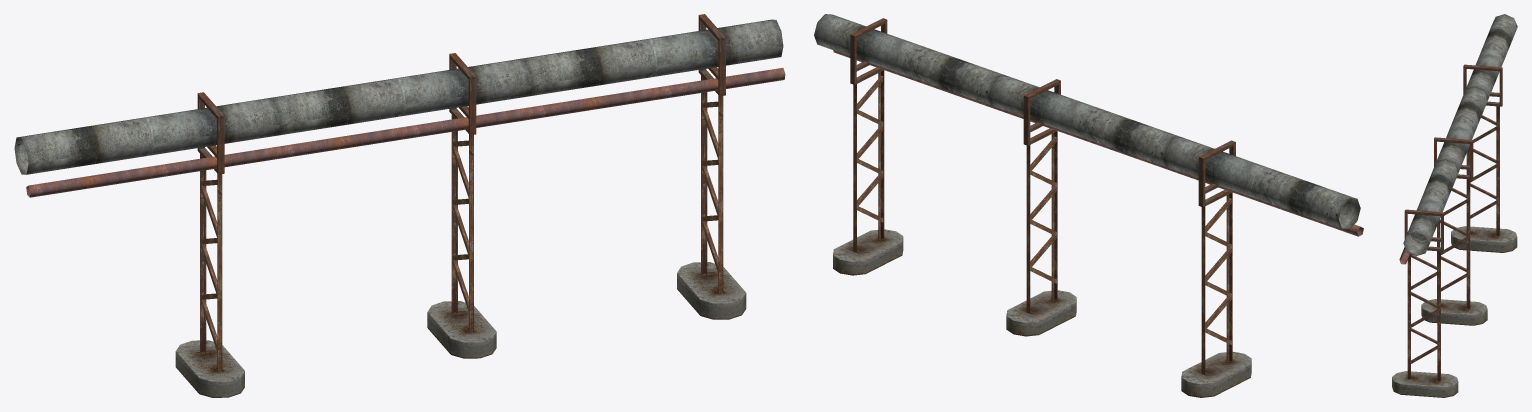
File: Pipes_set_v1_H_set_v1.glb
3 renders of one model, left to right at view 1: azimuth 30°, elevation 25°; view 2: azimuth 150°, elevation 25°; view 3: azimuth 270°, elevation 25°, orthographic. The views are drawn at different scales.
Visible parts, largest first — view 1: Pipes_set_v1_H_set_v1; view 2: Pipes_set_v1_H_set_v1; view 3: Pipes_set_v1_H_set_v1.
Boxes of the visible parts, left/top/right/bottom form: Pipes_set_v1_H_set_v1: left=14, top=14, right=785, bottom=397; Pipes_set_v1_H_set_v1: left=814, top=14, right=1363, bottom=397; Pipes_set_v1_H_set_v1: left=1392, top=14, right=1517, bottom=397.
Bounding box in the file's own units: 13.69 × 5.15 × 3.3.
Materials: 1 (1 with a texture image).
